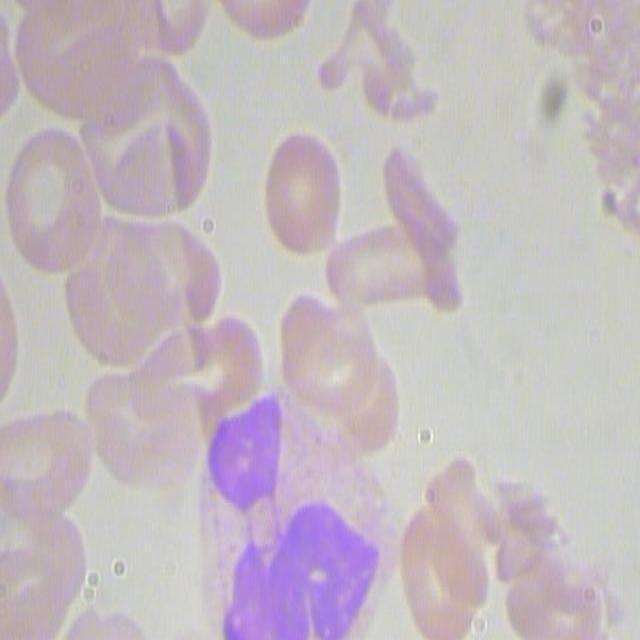RBC: (66, 207, 208, 373), (84, 57, 214, 231), (282, 288, 403, 473), (391, 454, 493, 640), (0, 102, 101, 278), (83, 357, 205, 498), (1, 0, 140, 121), (334, 234, 472, 317), (256, 130, 341, 260), (0, 409, 94, 522), (0, 508, 83, 627), (211, 0, 317, 40)
WBC: (215, 401, 383, 640)
